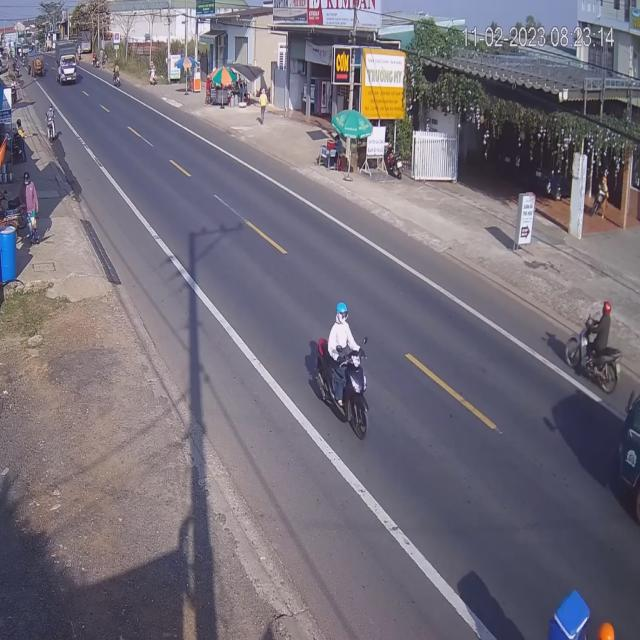car: (623, 360, 640, 534)
motorbike: (313, 303, 370, 439), (564, 302, 620, 394), (44, 103, 56, 140)
truck: (58, 42, 80, 84)
